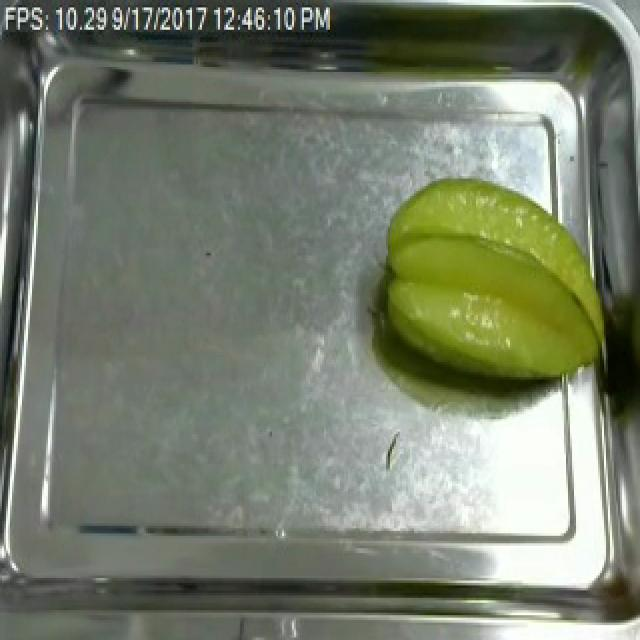fruit: (370, 166, 620, 394)
